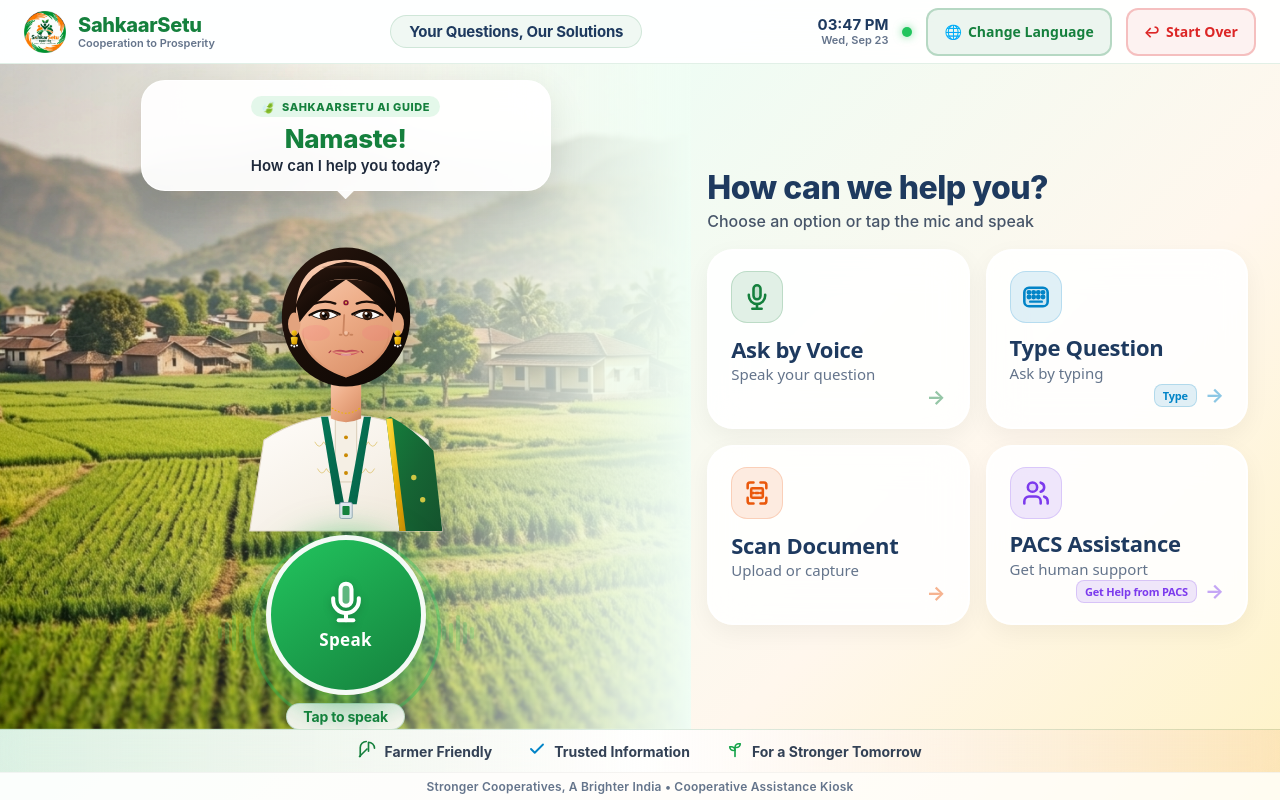
Scenario: App Navigation Flow (K3) › clicking Start Over from Home opens ConfirmDialog
The image size is (1280, 800).
Expected: the heading "How can we help you?" is shown, top-left (707, 168), bottom-right (1048, 207)
// Click Start Over in header
Click the button "↩ Start Over".
click(1191, 32)  # box top-left (1126, 8), bottom-right (1256, 56)
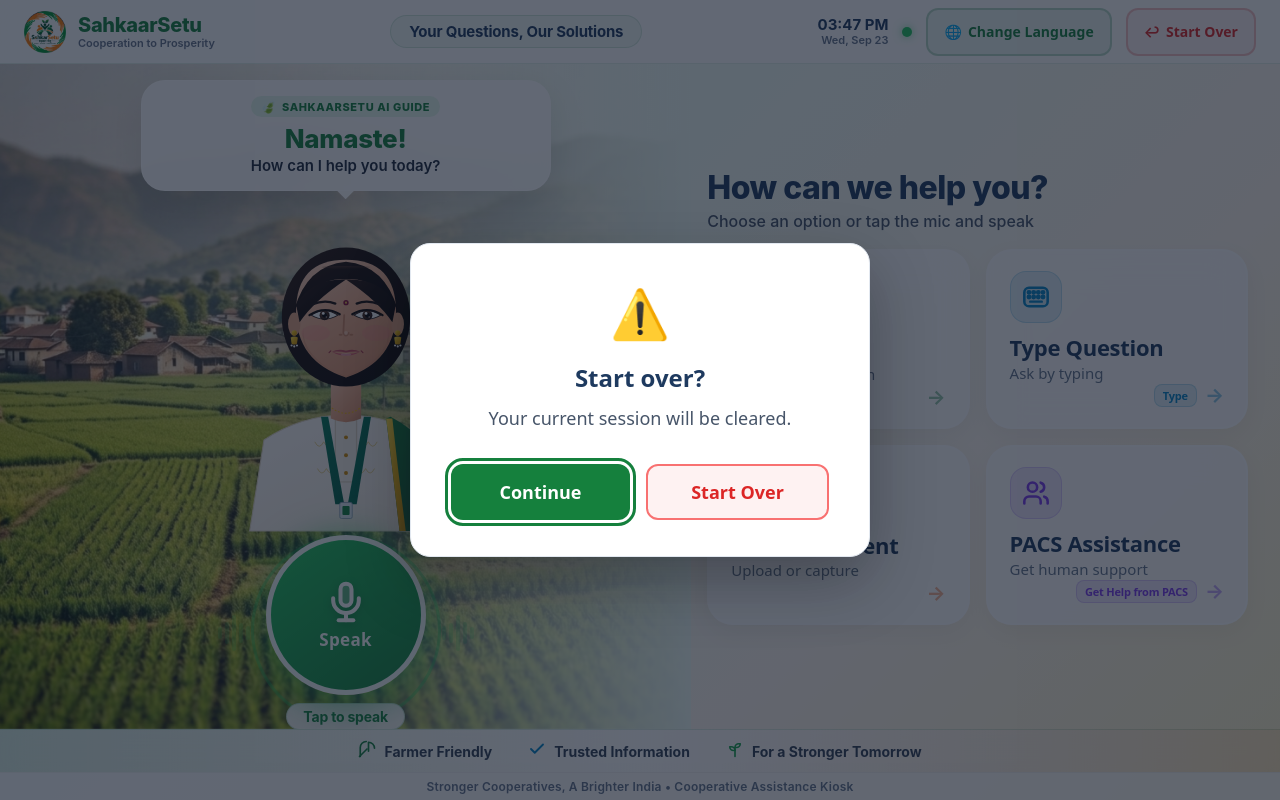
Result: the dialog is shown
Result: the heading "Start over?" is shown at top-left (575, 361), bottom-right (705, 394)
